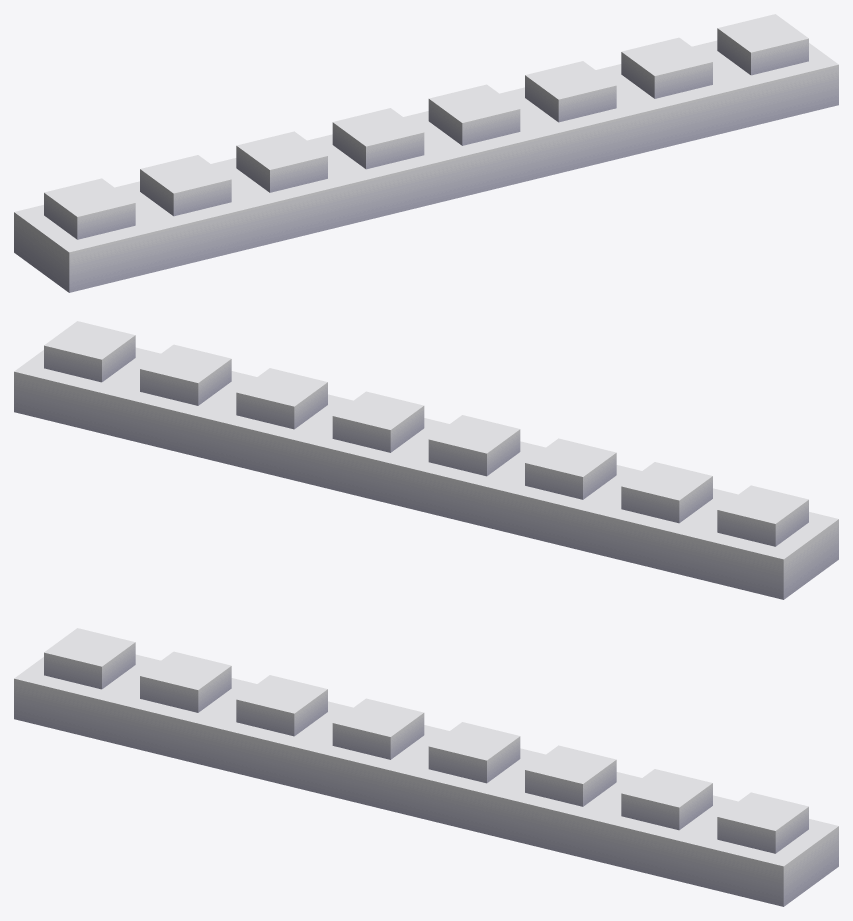
The model's file is square_lq_plate_1x8.glb.
The picture shows the model from 3 angles, top to bottom: view 1: azimuth 30°, elevation 25°; view 2: azimuth 150°, elevation 25°; view 3: azimuth 330°, elevation 25°; orthographic projection.
Parts seen in each view (by area): view 1: square-lq-plate-1x8; view 2: square-lq-plate-1x8; view 3: square-lq-plate-1x8.
Boxes of the visible parts, bbox=[...] form: square-lq-plate-1x8: bbox=[14, 14, 838, 292]; square-lq-plate-1x8: bbox=[14, 321, 838, 599]; square-lq-plate-1x8: bbox=[14, 628, 838, 906].
Size of the model in its own units: 0.636 by 0.05 by 0.079.
1 material, 1 textured.
